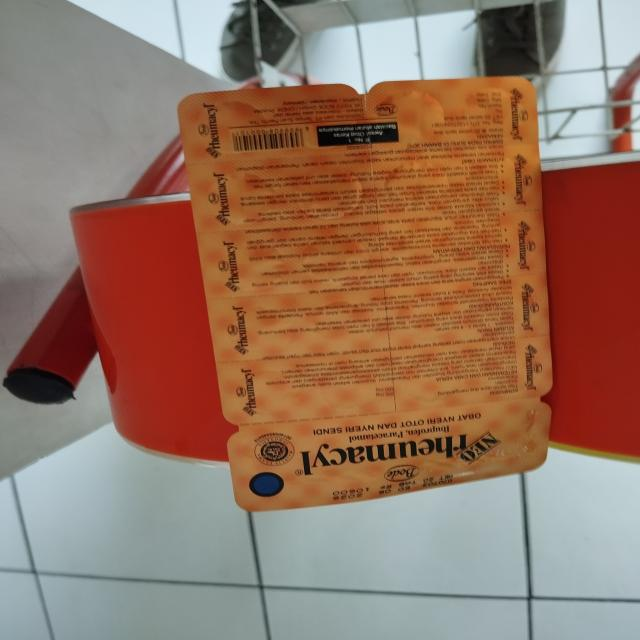B3: (177, 74, 554, 514)
